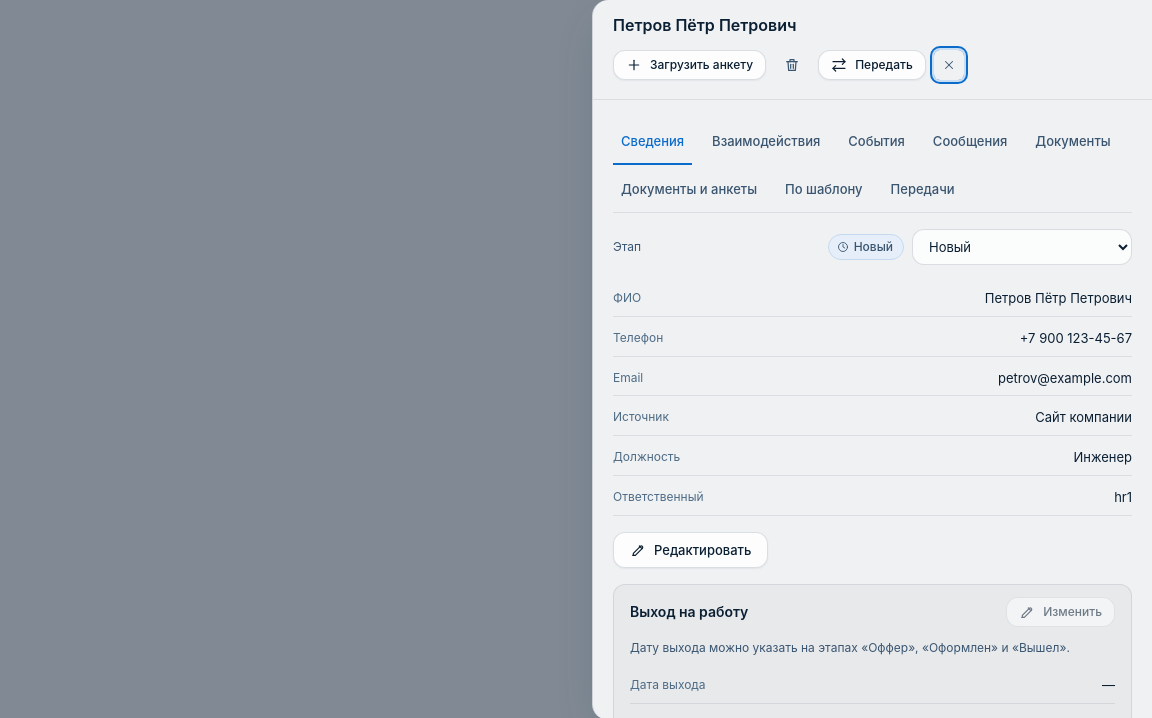
it: CandidateDrawer events tab — «Показать ещё» accumulates › appends the next page instead of replacing the list
What coordinates should you click on to do the following:
click the tab "События"
I would click on:
 (877, 143)
Its box is [840,120,913,165].
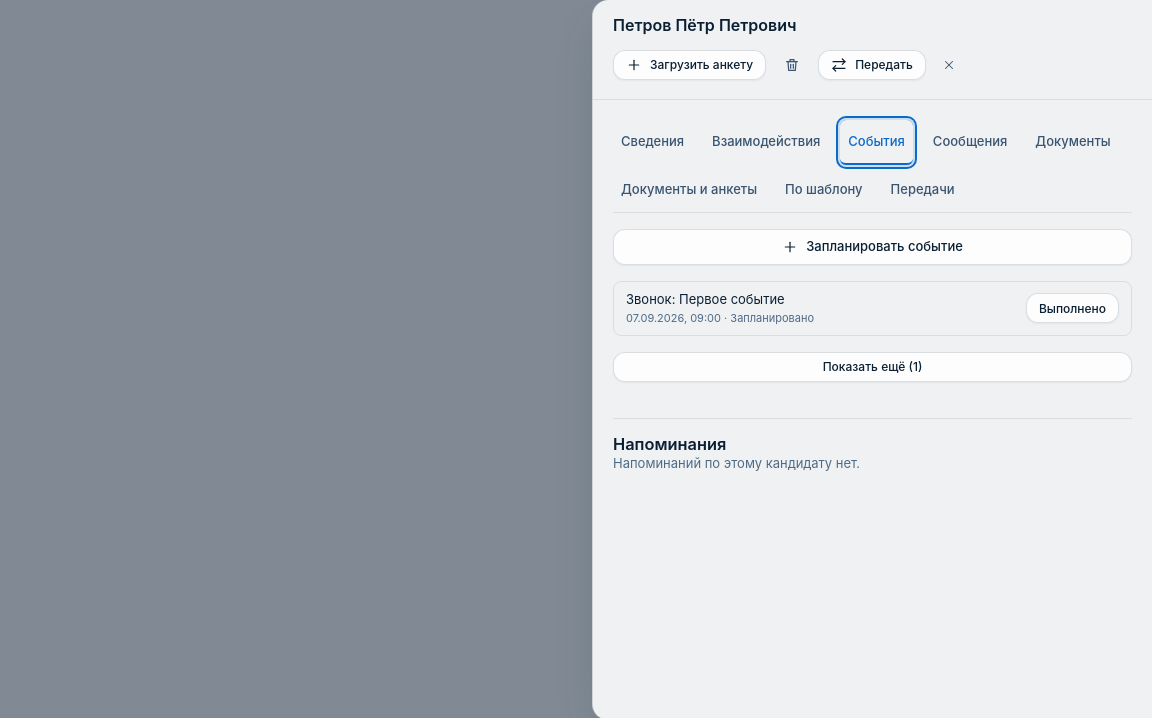
Expected: the text "Второе событие" is not shown
Result: the text "Звонок: Первое событие" is shown at [626,290,785,309]
What coordinates should you click on to do the following:
click the button "Показать ещё (1)"
I would click on:
 (872, 367)
Its box is [613,352,1132,382].
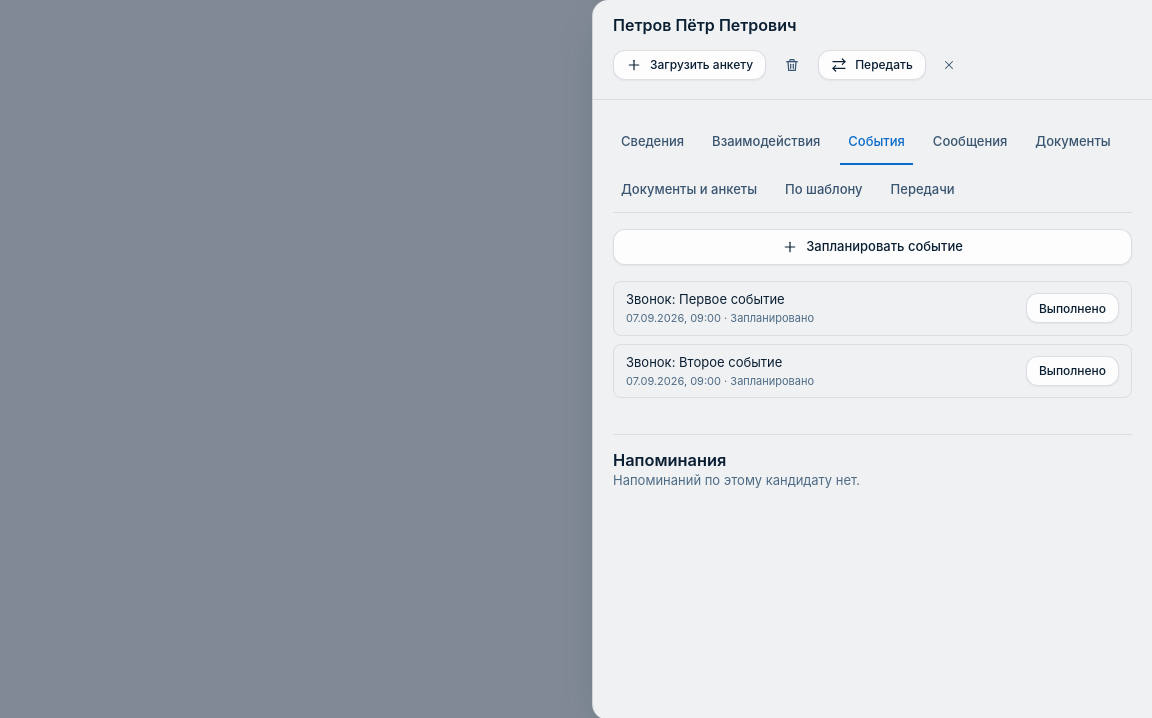
Result: the text "Звонок: Первое событие" is shown at [626,290,785,309]
Result: the text "Звонок: Второе событие" is shown at [626,353,782,372]
Result: the button "Показать ещё" is gone
